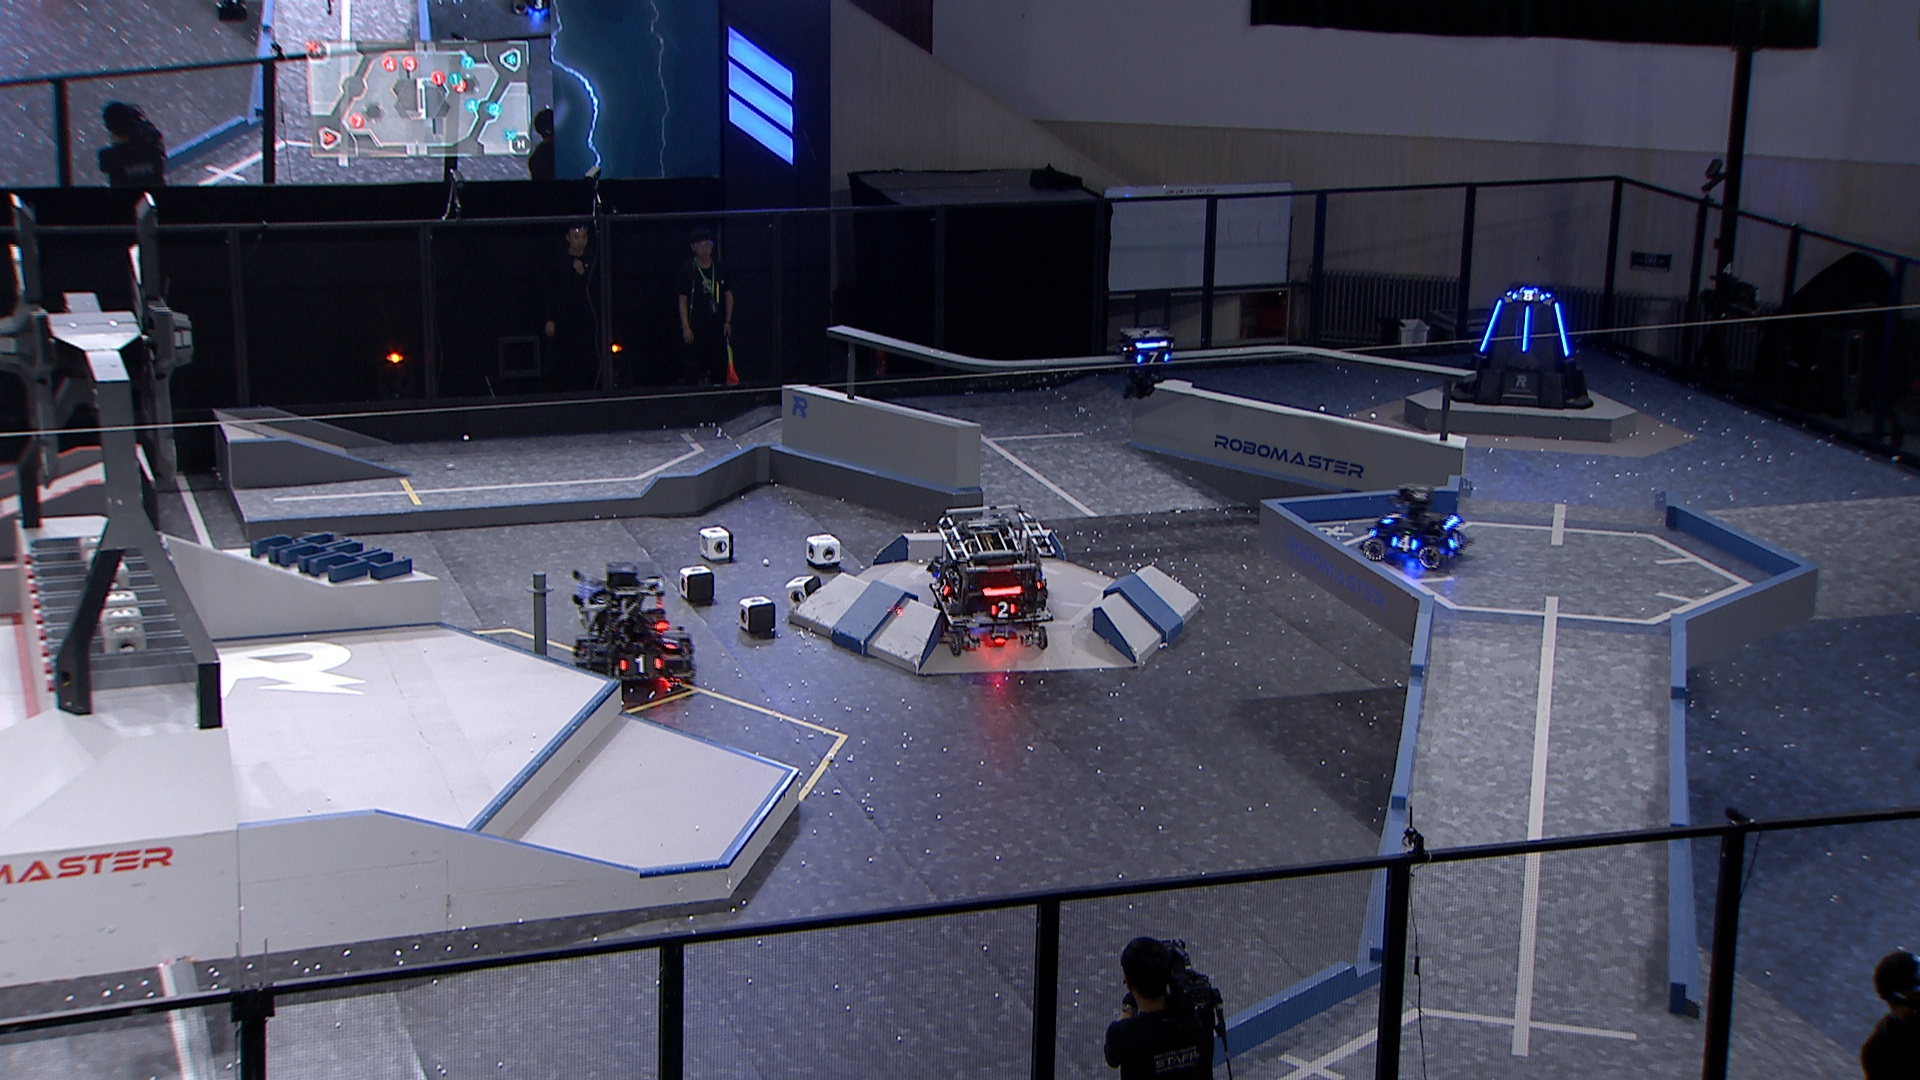armor: (1477, 295, 1505, 356), (618, 654, 665, 676), (1553, 301, 1571, 357), (1135, 349, 1171, 368), (986, 599, 1015, 618), (1391, 533, 1420, 553), (659, 629, 684, 651), (1522, 305, 1532, 353), (1513, 290, 1545, 305), (1377, 509, 1400, 526), (1447, 531, 1465, 551), (936, 578, 951, 599)
base: (1449, 285, 1596, 411)
car: (924, 502, 1054, 655), (567, 560, 699, 688), (1361, 483, 1474, 571)
ignore: (501, 0, 550, 16)
watcher: (1116, 324, 1176, 400)
